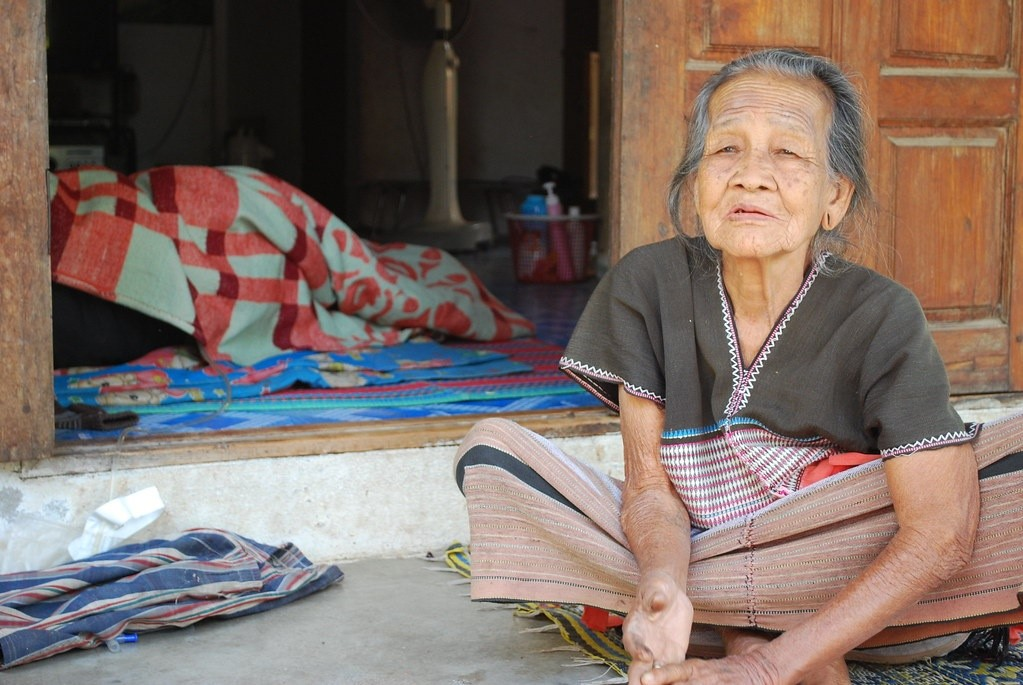face_no_mask: (693, 56, 855, 264)
